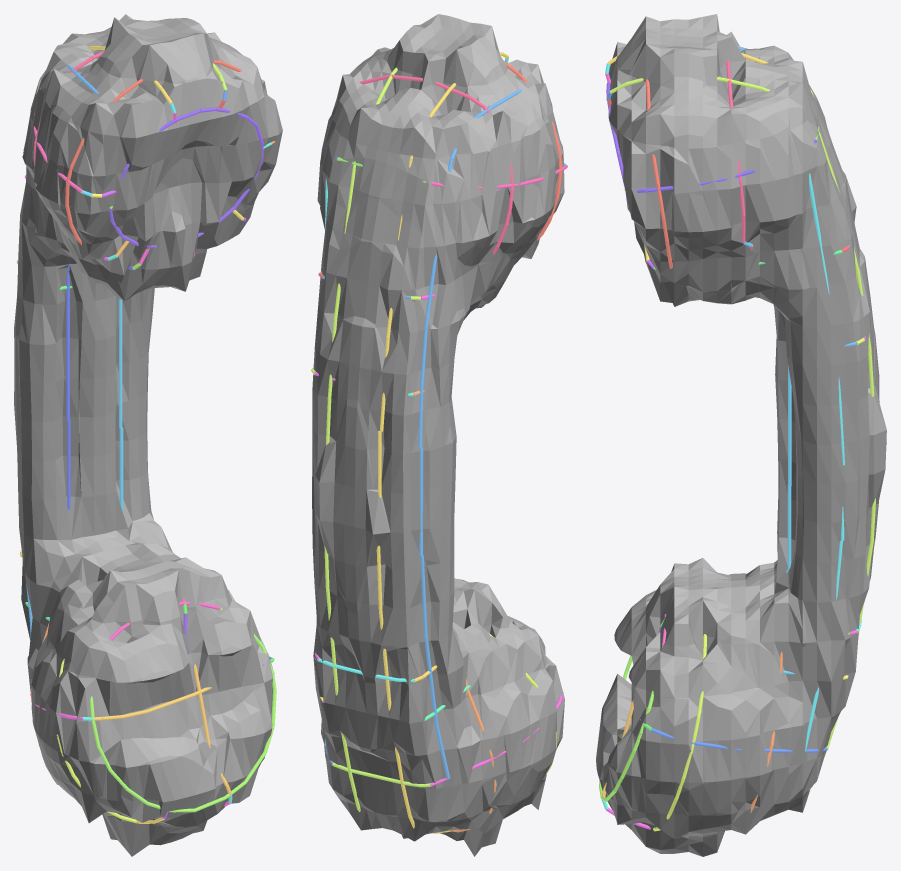
Rendered from flowrep_phone.gltf.
3 renders of one model, left to right at view 1: azimuth 30°, elevation 25°; view 2: azimuth 150°, elevation 25°; view 3: azimuth 270°, elevation 25°, orthographic.
Size of the model in its own units: 0.2737 by 0.9878 by 0.3168.
